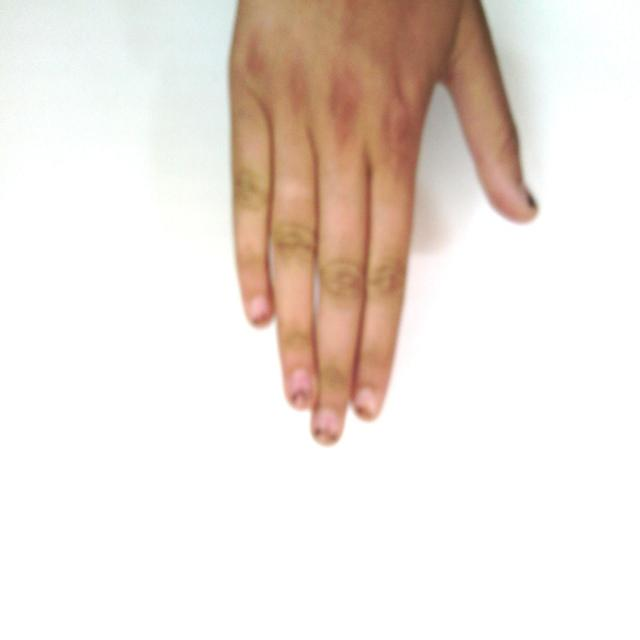others: (152, 1, 562, 449)
